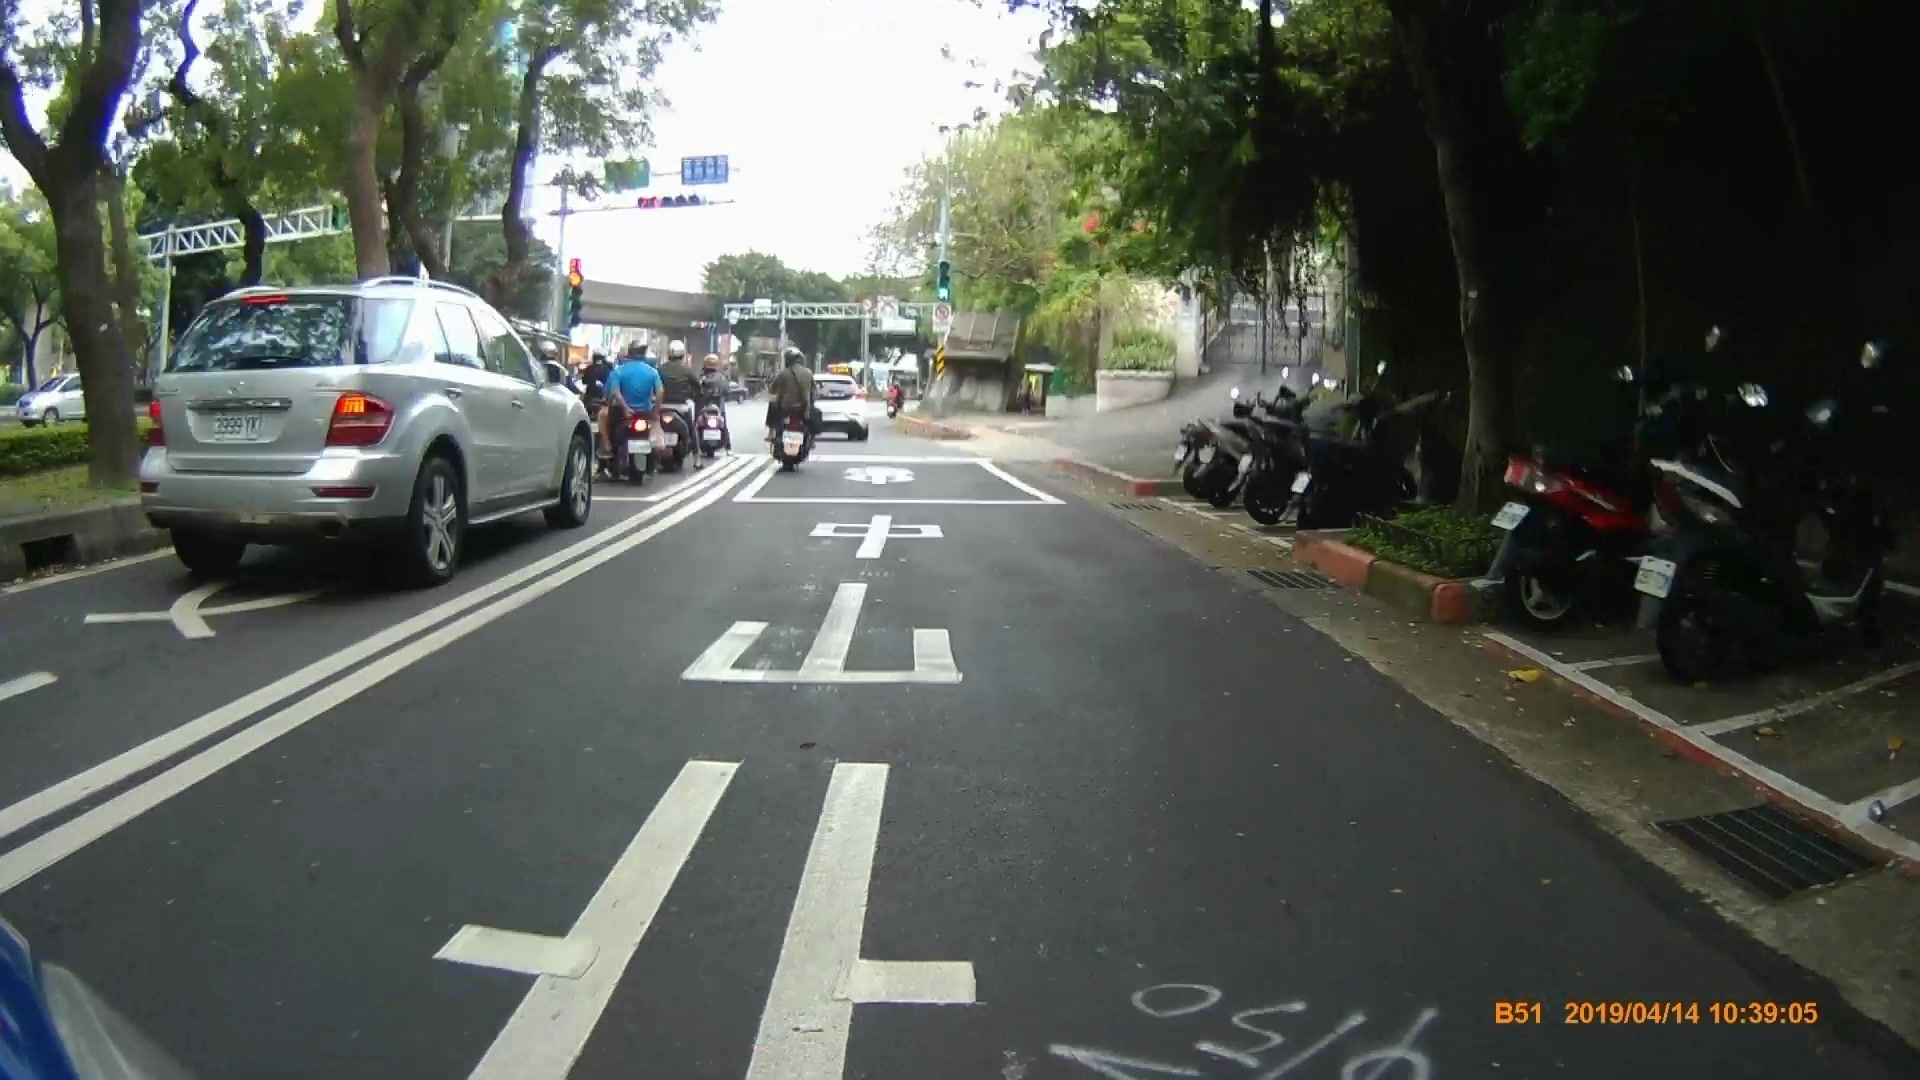License_plate: (212, 411, 262, 440)
